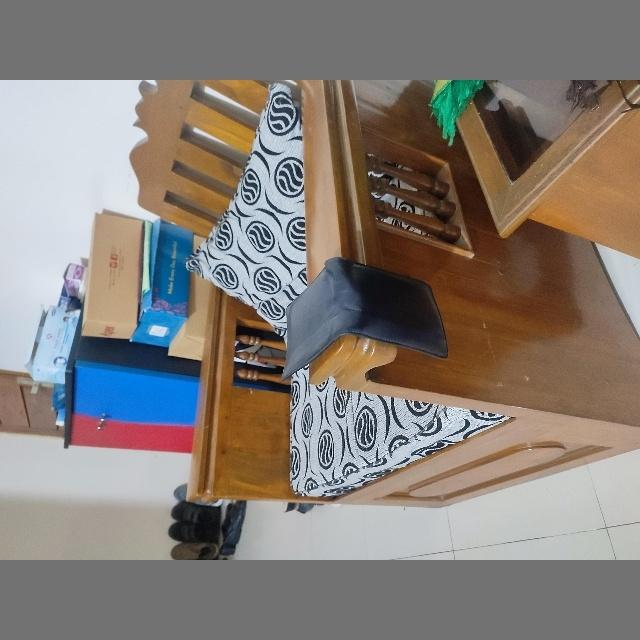Wallet: (282, 258, 448, 380)
